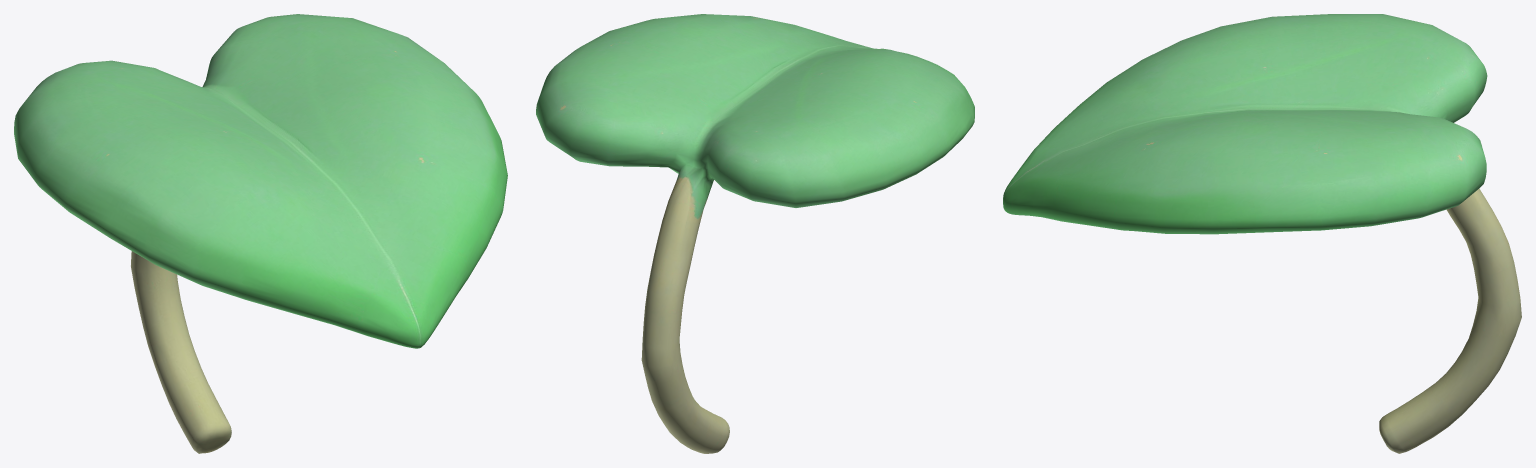
The model's file is heart_lime_2672_0_v2.glb.
3 renders of one model, left to right at view 1: azimuth 30°, elevation 25°; view 2: azimuth 150°, elevation 25°; view 3: azimuth 270°, elevation 25°, orthographic. The views are drawn at different scales.
Size of the model in its own units: 1.71 by 1.57 by 2.
Materials: 1 (1 with a texture image).
